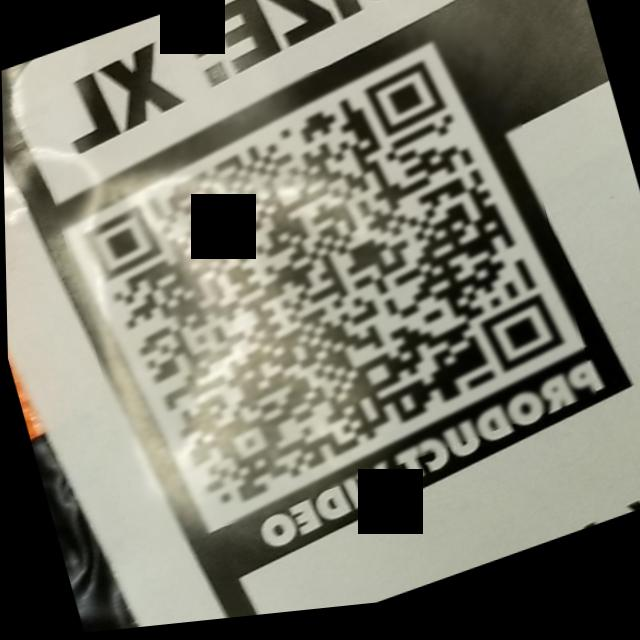QR_CODE: (42, 11, 596, 563)
